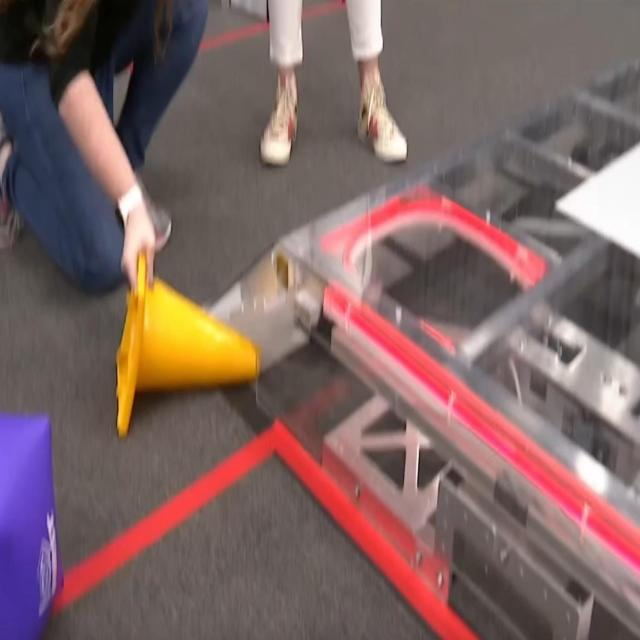frc_cone: (114, 247, 260, 437)
frc_cube: (0, 412, 57, 640)
